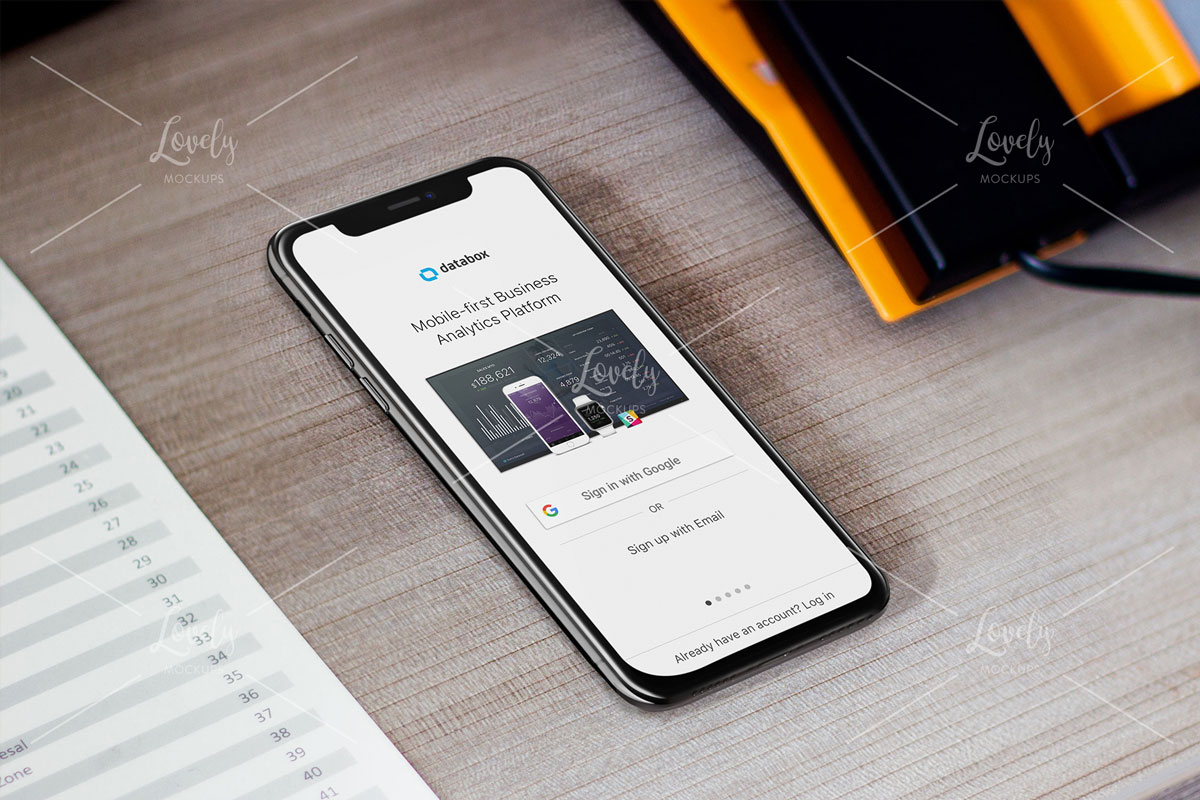Cell Phone: (266, 167, 876, 716)
